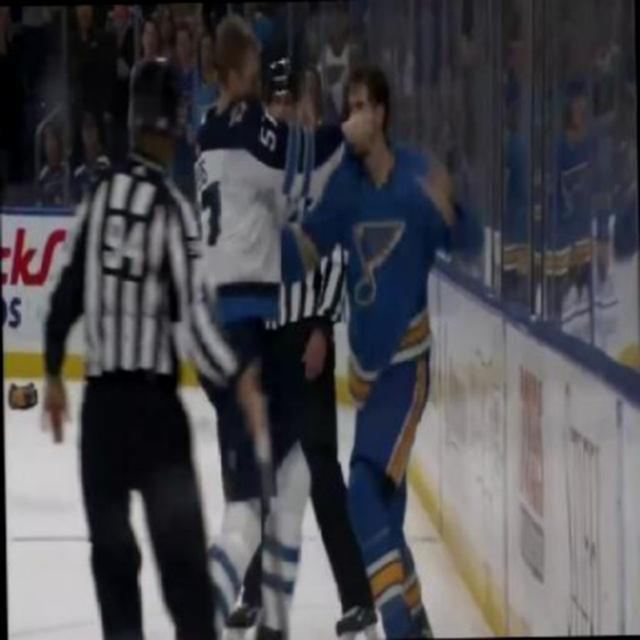fight: (193, 12, 450, 634)
